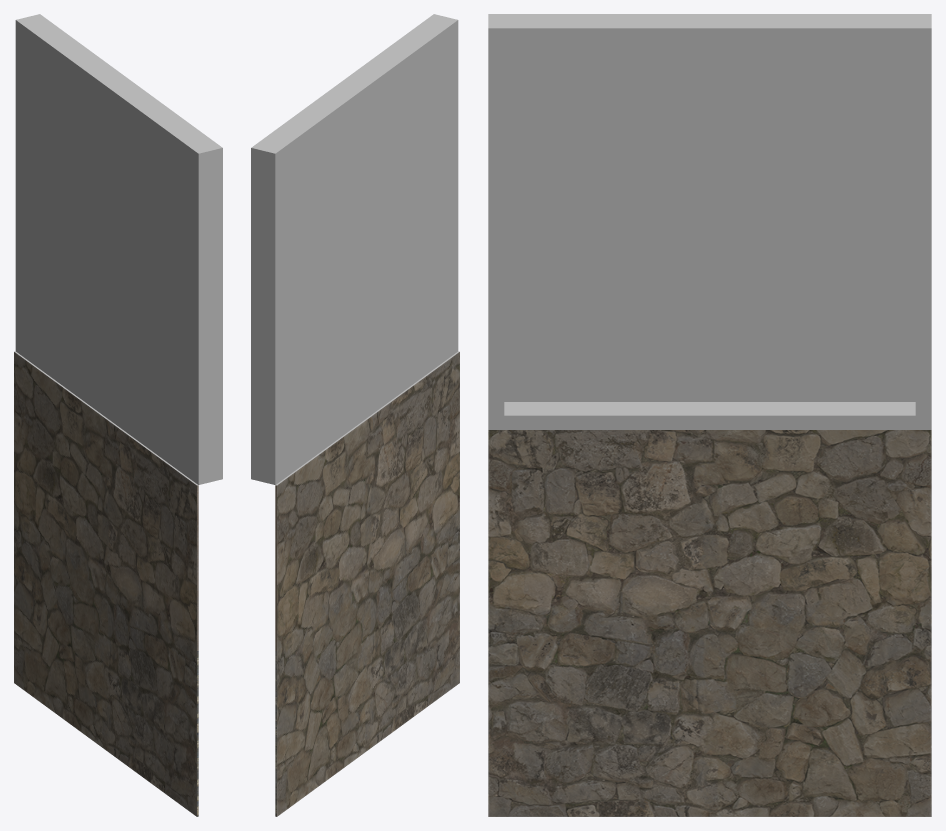
File: HouseWall_2x2.fbx
3 renders of one model, left to right at view 1: azimuth 30°, elevation 25°; view 2: azimuth 150°, elevation 25°; view 3: azimuth 270°, elevation 25°, orthographic. The views are drawn at different scales.
Visible parts, largest first — view 1: Plane.099; view 2: Plane.099; view 3: Plane.099.
Part boxes in pixels (x1=…): Plane.099: x1=14, y1=14, x2=222, y2=816; Plane.099: x1=251, y1=14, x2=459, y2=816; Plane.099: x1=488, y1=14, x2=931, y2=816.
Bounding box in the file's own units: 16.34 × 400 × 200.
